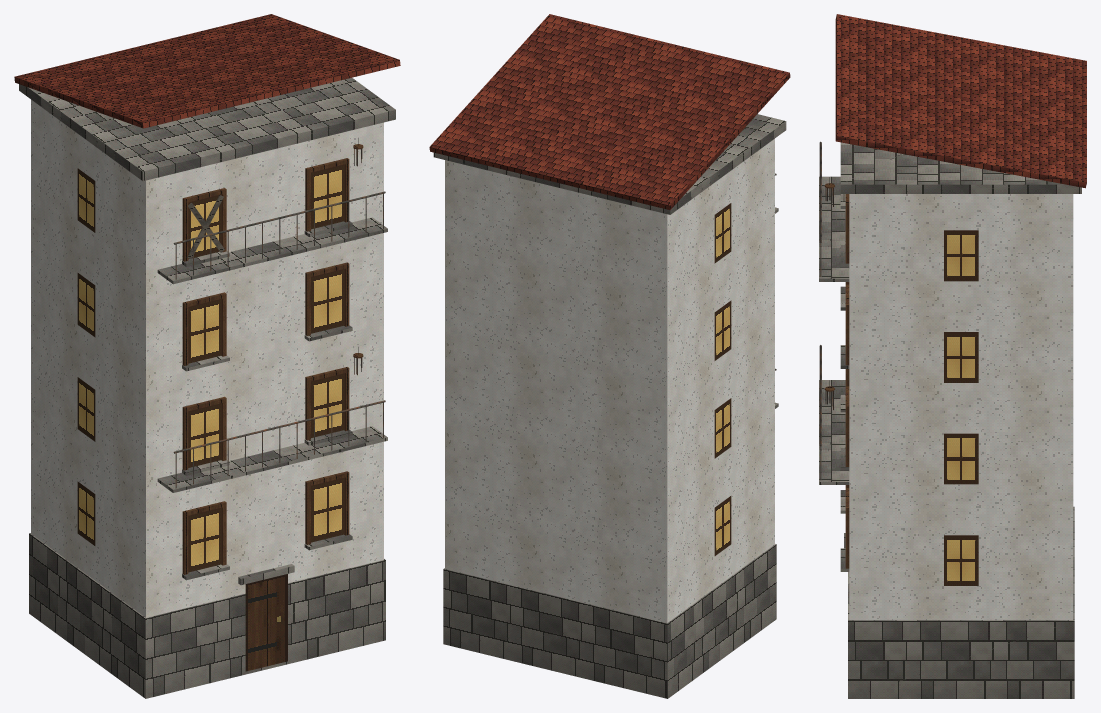
File: casa_relojeria.obj
3 renders of one model, left to right at view 1: azimuth 30°, elevation 25°; view 2: azimuth 150°, elevation 25°; view 3: azimuth 270°, elevation 25°, orthographic. The views are drawn at different scales.
Visible parts, largest first — view 1: casa_relojeria; view 2: casa_relojeria; view 3: casa_relojeria.
Boxes of the visible parts, x1,y1,x2,y2 form: casa_relojeria: [14, 14, 400, 698]; casa_relojeria: [429, 14, 790, 698]; casa_relojeria: [819, 14, 1086, 698].
Size of the model in its own units: 6.7 by 14.51 by 6.21.
Materials: 9 (9 with a texture image).
